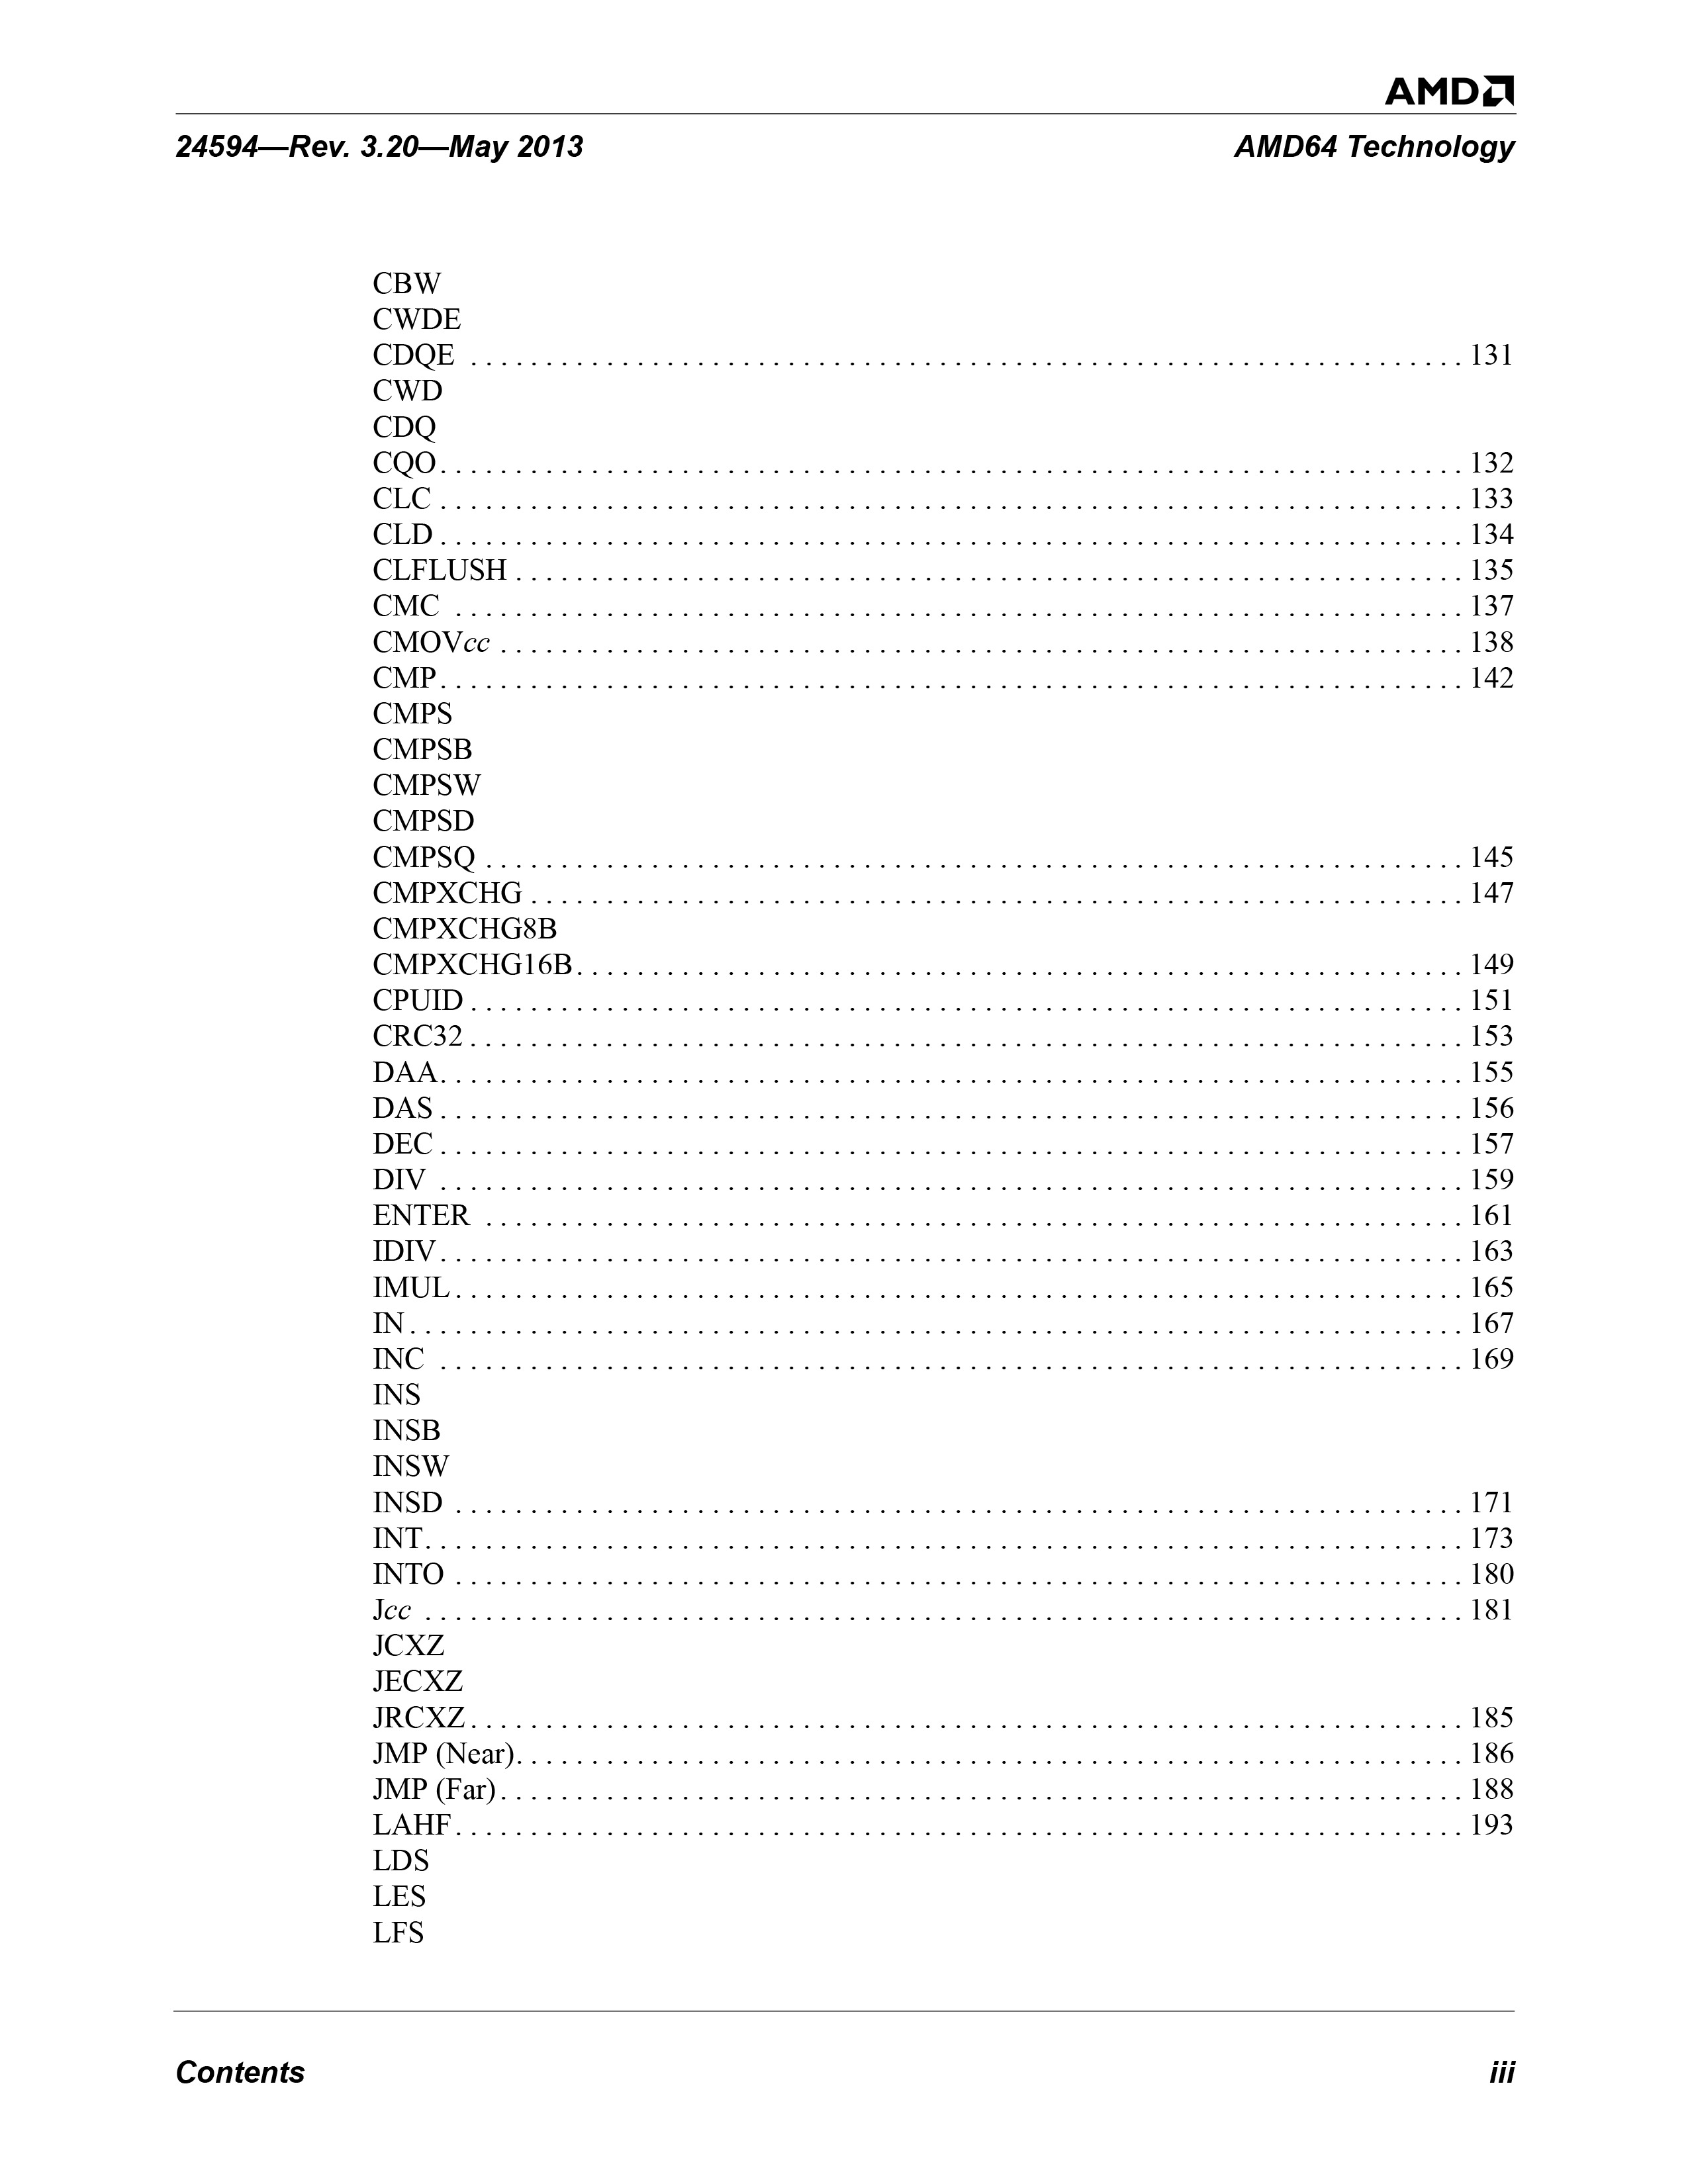section: (1239, 126, 1544, 156), (1379, 64, 1528, 121)
table: (360, 227, 1548, 1948)
